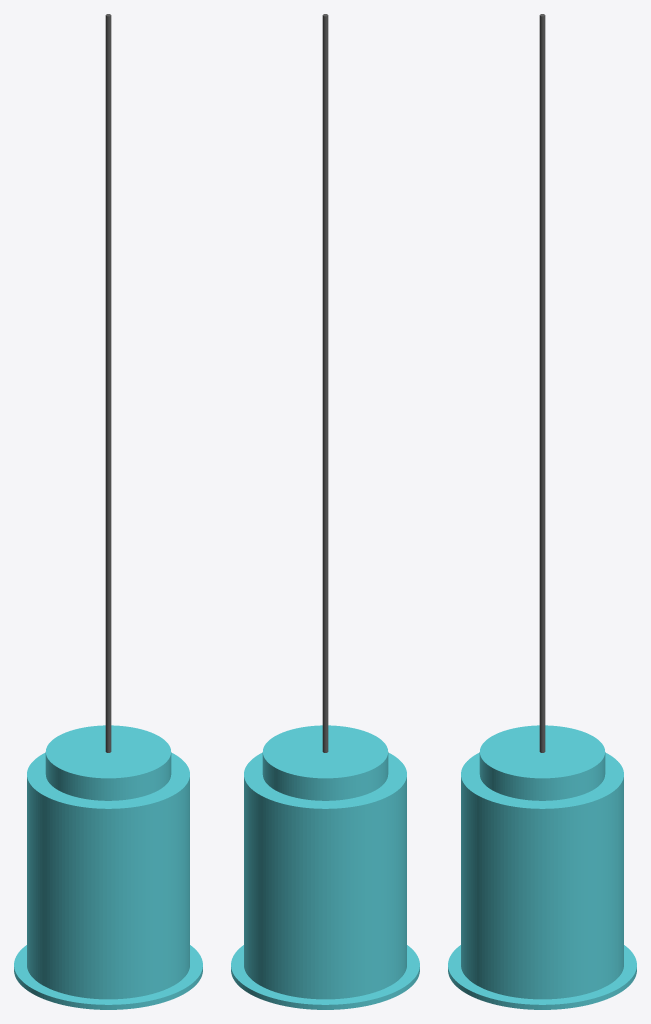
The model's file is needles with filter.fbx.
3 views of the same model, side by side, from view 1: azimuth 30°, elevation 25°; view 2: azimuth 150°, elevation 25°; view 3: azimuth 270°, elevation 25° (orthographic).
Visible parts, largest first — view 1: filter, needle; view 2: filter, needle; view 3: filter, needle.
Boxes of the visible parts, x1=… form: filter: x1=14, y1=725, x2=202, y2=1009; needle: x1=105, y1=14, x2=111, y2=752; filter: x1=231, y1=725, x2=419, y2=1009; needle: x1=322, y1=14, x2=328, y2=752; filter: x1=448, y1=725, x2=636, y2=1009; needle: x1=539, y1=14, x2=545, y2=752.
Size of the model in its own units: 21.02 by 117 by 21.02.
